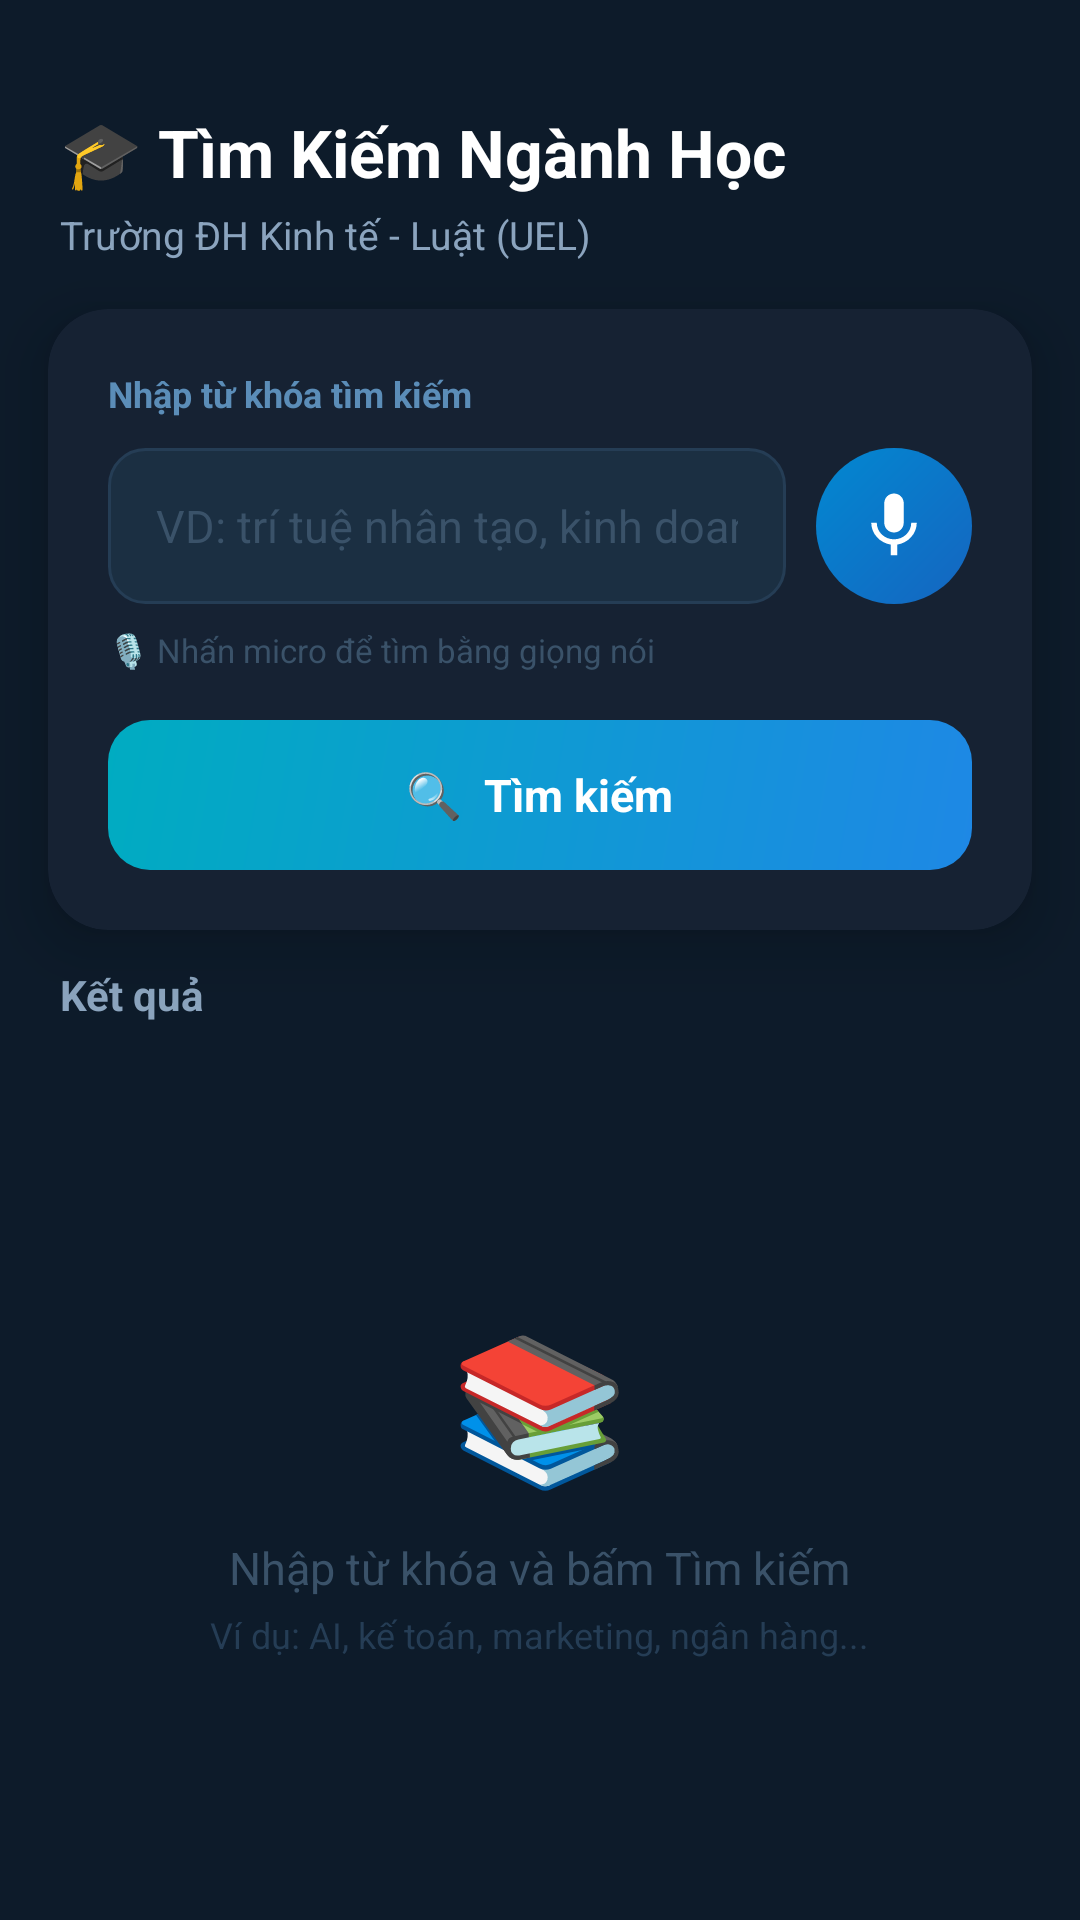

Where icons sit on this 1080 × 1920 app screen, as (x1, y1, x2, y2):
Voice search: (871, 493, 917, 556)
